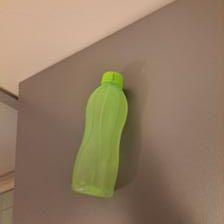bottle: (61, 68, 128, 200)
